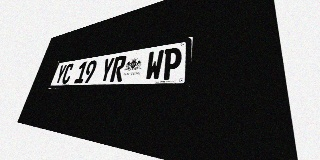1: (74, 61, 89, 83)
9: (82, 60, 98, 83)
C: (61, 63, 75, 84)
P: (161, 47, 182, 80)
R: (110, 55, 127, 82)
W: (144, 49, 164, 81)
Y: (99, 57, 115, 82), (54, 64, 67, 84)
